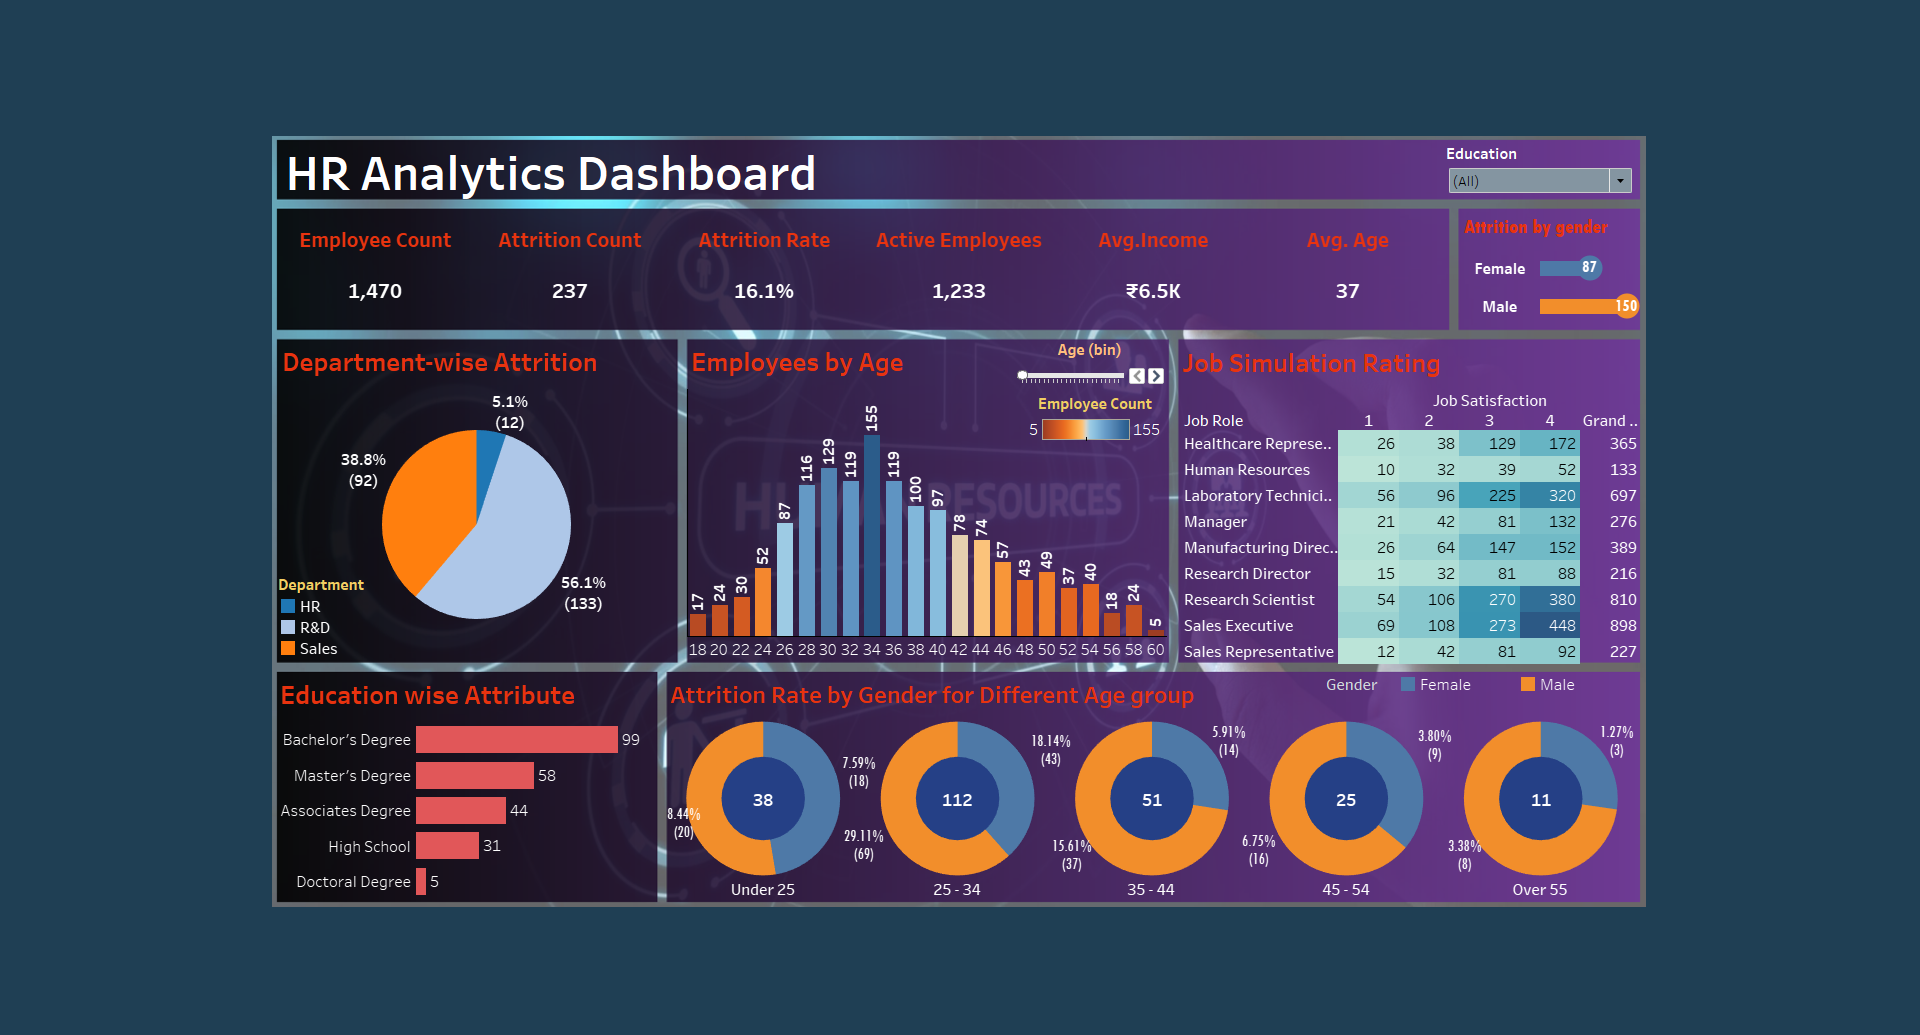

This screenshot's page, from the dashboard's own definition file:
{"tool":"tableau","page":{"name":"HR Analytics Dashboard","canvas":[1400,795],"ordinal":0},"visuals":[{"type":"image","param":"C:/Users/HUAWEI/Pictures/Screenshots/dashboard background.png","box":[8,8,1384,779]},{"type":"text","box":[22,16,565,61]},{"type":"filter","title":"Education wise Attribute","param":"[federated.1wsg0wu1hsdm8p17qkv2k1eko4cl].[none:Education:nk]","box":[1186,19,189,54]},{"type":"worksheet","title":"KPI","mark":"Automatic","box":[18,88,1167,115]},{"type":"worksheet","title":"Attrition by gender","mark":"Automatic","rows":["Gender"],"cols":["Calculation_505529071956029440","Calculation_505529071956029440"],"box":[1200,88,184,113]},{"type":"filter","title":"Employees by Age","param":"[federated.1wsg0wu1hsdm8p17qkv2k1eko4cl].[none:Age (bin):ok]","box":[751,215,157,59]},{"type":"worksheet","title":"Department-wise Attrition","mark":"Pie","box":[18,216,397,320]},{"type":"worksheet","title":"Employees by Age","mark":"Automatic","rows":["Employee Count"],"cols":["Age (bin)"],"box":[427,216,480,321]},{"type":"worksheet","title":"Job Simulation Rating","mark":"Square","rows":["Job Role"],"cols":["Job Satisfaction"],"box":[918,217,463,323]},{"type":"legend","title":"Employees by Age","param":"[federated.1wsg0wu1hsdm8p17qkv2k1eko4cl].[sum:Employee Count:qk]","box":[765,269,140,48]},{"type":"legend","title":"Department-wise Attrition","param":"[federated.1wsg0wu1hsdm8p17qkv2k1eko4cl].[none:Department:nk]","box":[18,450,94,85]},{"type":"worksheet","title":"Education wise Attribute","mark":"Automatic","rows":["Education"],"cols":["Calculation_505529071956029440"],"box":[16,549,379,226]},{"type":"worksheet","title":"Attrition Rate by Gender for Different Age group","mark":"Pie","rows":["Calculation_1233423362084941825","Calculation_1233423362084941825"],"cols":["CF_age band"],"box":[406,550,973,227]},{"type":"legend","title":"Attrition Rate by Gender for Different Age group","param":"[federated.1wsg0wu1hsdm8p17qkv2k1eko4cl].[none:Gender:nk]","box":[1066,550,315,34]}]}

Visuals, with their boxes on the page's 1400x795 design canvas (x1, y1, x2, y2). These are canvas units, not pixel positions in the 1920x1035 screenshot, which may show the page scaled, cropped or inside an application window:
image: bbox=(8, 8, 1392, 787)
text: bbox=(22, 16, 587, 77)
"Education wise Attribute" filter: bbox=(1186, 19, 1375, 73)
"KPI" worksheet: bbox=(18, 88, 1185, 203)
"Attrition by gender" worksheet: bbox=(1200, 88, 1384, 201)
"Employees by Age" filter: bbox=(751, 215, 908, 274)
"Department-wise Attrition" worksheet (Pie marks): bbox=(18, 216, 415, 536)
"Employees by Age" worksheet: bbox=(427, 216, 907, 537)
"Job Simulation Rating" worksheet (Square marks): bbox=(918, 217, 1381, 540)
"Employees by Age" legend: bbox=(765, 269, 905, 317)
"Department-wise Attrition" legend: bbox=(18, 450, 112, 535)
"Education wise Attribute" worksheet: bbox=(16, 549, 395, 775)
"Attrition Rate by Gender for Different Age group" worksheet (Pie marks): bbox=(406, 550, 1379, 777)
"Attrition Rate by Gender for Different Age group" legend: bbox=(1066, 550, 1381, 584)
